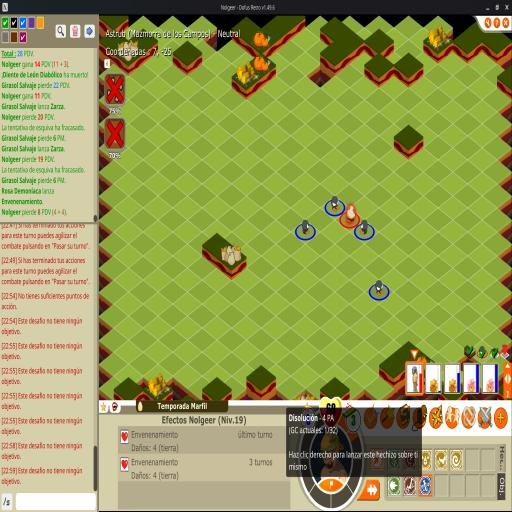Enemigos: (374, 279, 385, 297), (301, 219, 312, 235), (331, 195, 341, 212), (359, 219, 369, 235)
Personaje: (345, 203, 357, 224)
